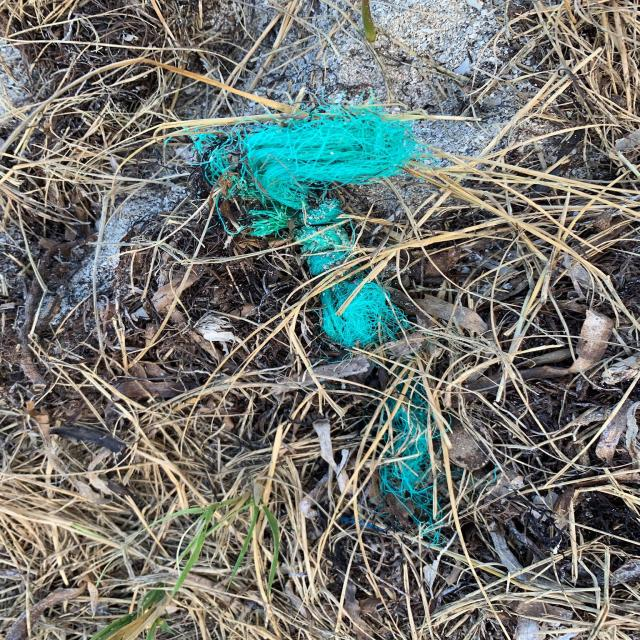litter: (187, 93, 421, 349), (382, 392, 442, 541)
